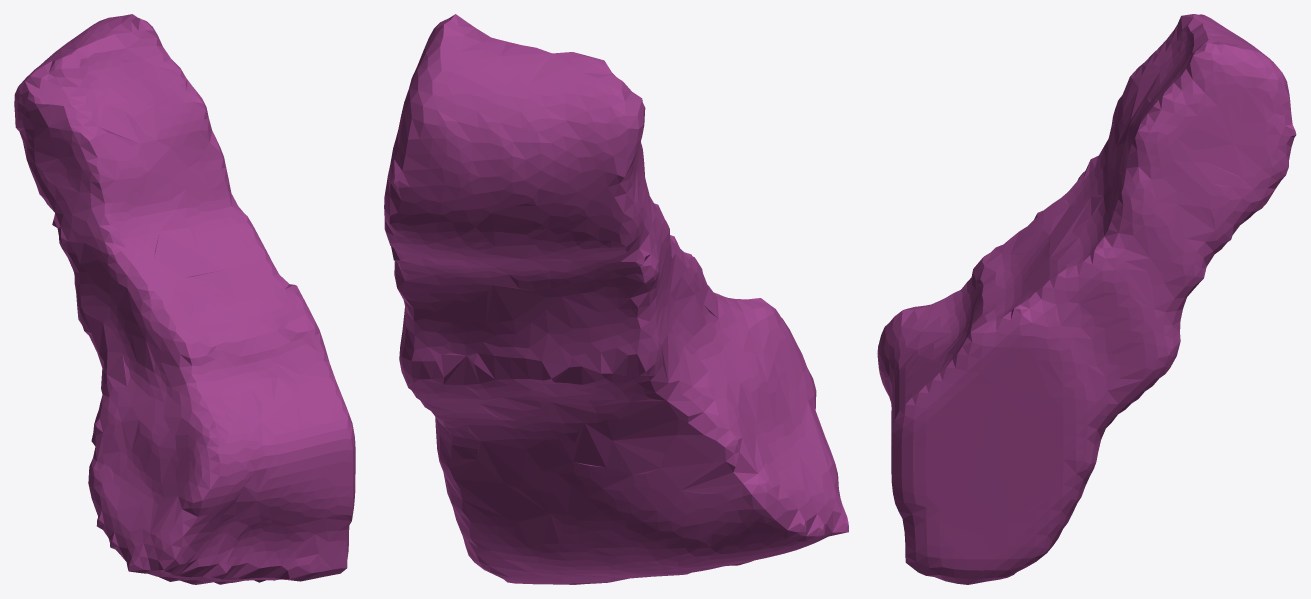
The model's file is Model_83_RH__Auditory_cortex__rostral_parabelt_(AuRPB).obj.
3 views of the same model, side by side, from view 1: azimuth 30°, elevation 25°; view 2: azimuth 150°, elevation 25°; view 3: azimuth 270°, elevation 25° (orthographic). The views are drawn at different scales.
Bounding box in the file's own units: 1.94 × 4.11 × 3.05.
